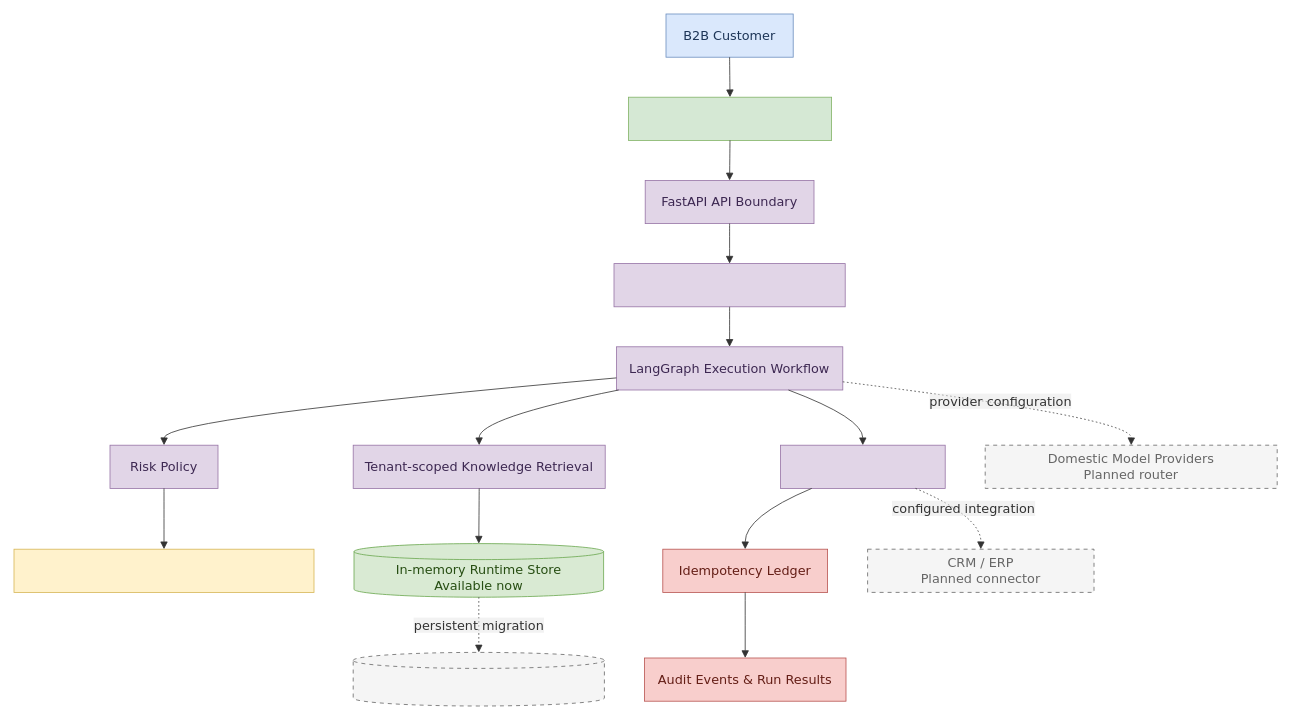
Some shapes in this 1291 by 720 pixel diagram are drawn without their labels. Here are the shapes that lost their labels. From the top down, the centre of each, then its label:
pixel 730 118: Enterprise WeChat Adapter
pixel 729 285: Organization & Access Boundary
pixel 862 466: Typed Business Tools
pixel 163 570: Human Approval Resumes the same thread
pixel 478 679: PostgreSQL + pgvector Production target
